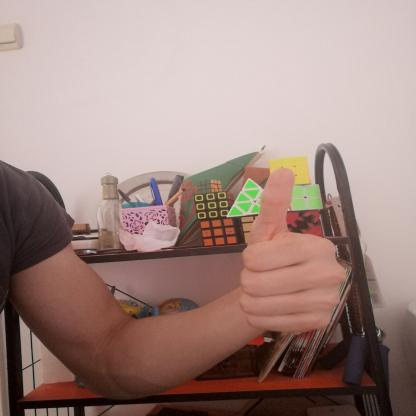ALIF: (227, 159, 357, 342)
